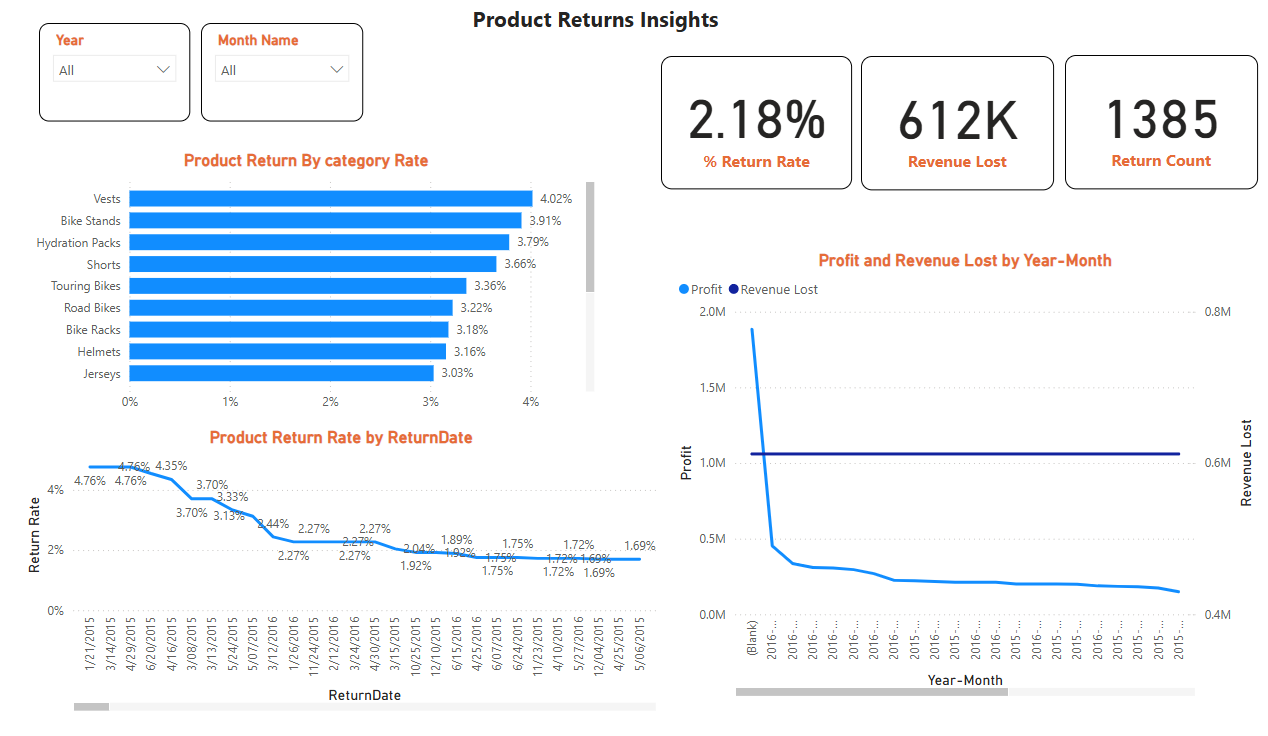

This screenshot's page, from the dashboard's own definition file:
{"tool":"powerbi","page":{"name":"Product Return Insights","canvas":[1280,720],"ordinal":1},"visuals":[{"type":"textbox","box":[472.2,0,270,57.6],"z":0},{"type":"card","fields":{"Values":["All Measures.Return Rate"]},"box":[670.3,57.1,192.3,134.1],"z":1},{"type":"lineChart","title":"Product Return Rate by ReturnDate","fields":{"Category":["Product_Returns.ReturnDate"],"Y":["All Measures.Return Rate"]},"box":[26.8,430.2,643.5,290.3],"z":2},{"type":"barChart","title":"Product Return By category Rate","fields":{"Y":["All Measures.Category Return Rate"],"Category":["Products.Product_Subcategories.SubcategoryName"]},"box":[19.8,151.5,587.5,271.6],"z":3},{"type":"card","fields":{"Values":["All Measures.Revenue Lost"]},"box":[870.8,57.1,193.5,135.2],"z":4},{"type":"card","fields":{"Values":["All Measures.Return Count"]},"box":[1076,56,193.5,135.2],"z":5},{"type":"lineChart","fields":{"Category":["DateTable.Year-Month"],"Y2":["All Measures.Revenue Lost"],"Y":["All Measures.Profit"]},"box":[682,251.8,587.5,453.5],"z":6},{"type":"slicer","fields":{"Values":["DateTable.Year"]},"box":[45.5,24.5,151.5,99.1],"z":7},{"type":"slicer","fields":{"Values":["DateTable.Month Name"]},"box":[207.5,24.5,163.2,99.1],"z":8}]}

Visuals, with their boxes on the page's 1280x720 design canvas (x1, y1, x2, y2). These are canvas units, not pixel positions in the 1268x736 screenshot, which may show the page scaled, cropped or inside an application window:
textbox: l=472, t=0, r=742, b=58
card - All Measures.Return Rate: l=670, t=57, r=863, b=191
"Product Return Rate by ReturnDate" lineChart: l=27, t=430, r=670, b=720
"Product Return By category Rate" barChart: l=20, t=152, r=607, b=423
card - All Measures.Revenue Lost: l=871, t=57, r=1064, b=192
card - All Measures.Return Count: l=1076, t=56, r=1270, b=191
lineChart - DateTable.Year-Month x All Measures.Revenue Lost: l=682, t=252, r=1270, b=705
slicer - DateTable.Year: l=46, t=24, r=197, b=124
slicer - DateTable.Month Name: l=208, t=24, r=371, b=124
